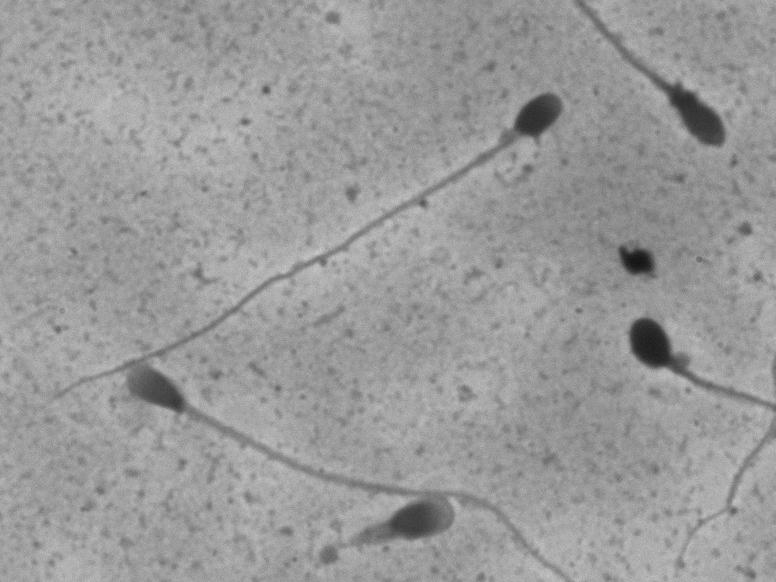Abnormal: (618, 292, 762, 562), (599, 12, 753, 187), (332, 490, 466, 572)
Normal: (30, 67, 578, 422)
